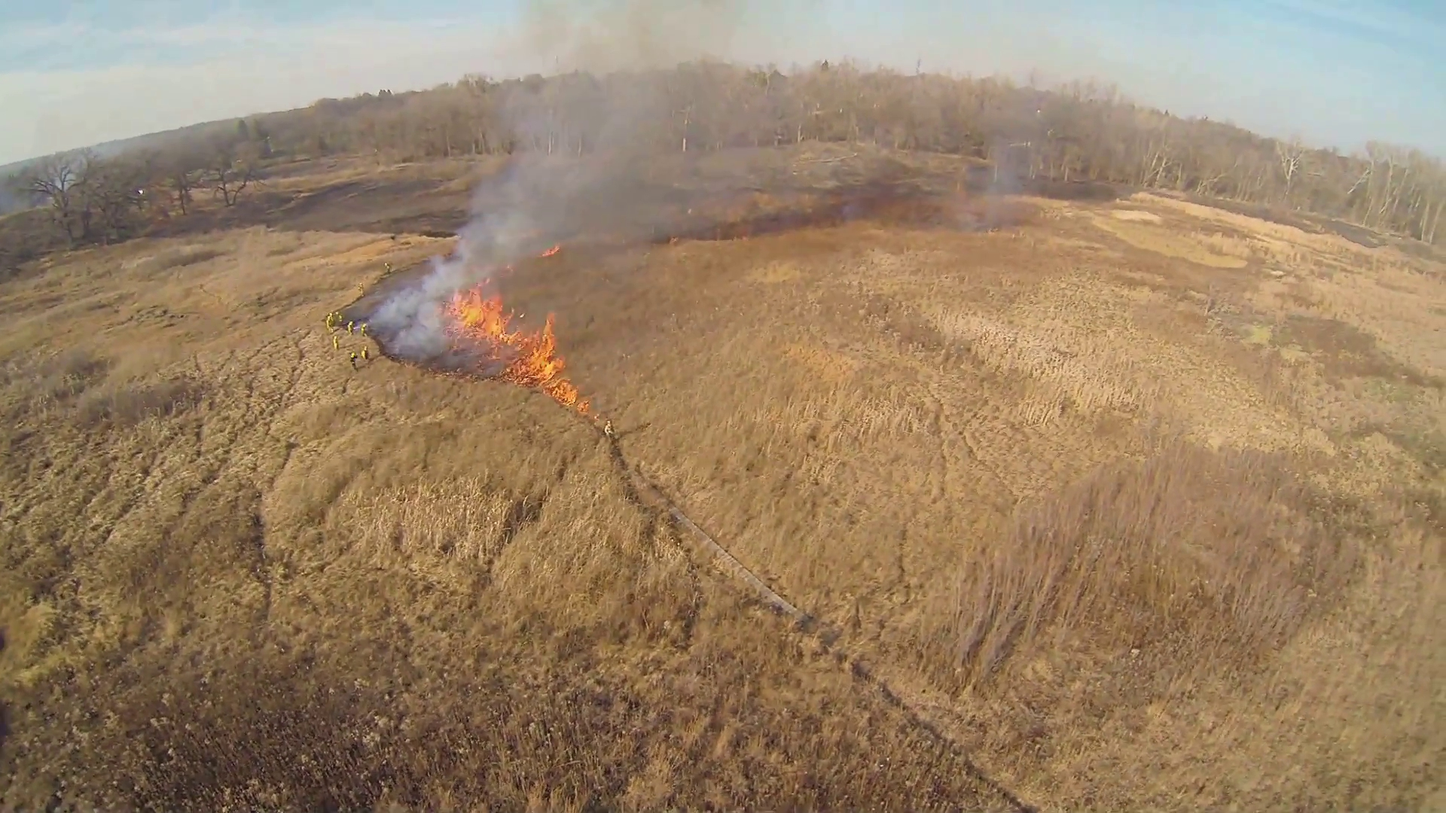forest_fire: (441, 287, 587, 413)
